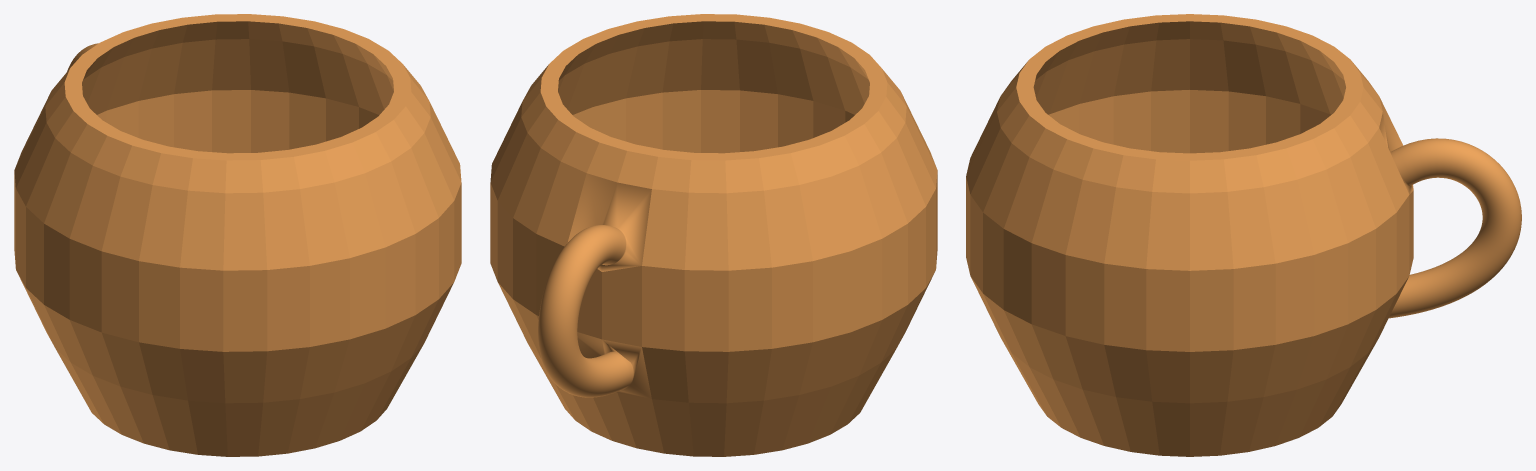
Rendered from cup.glb.
The picture shows the model from 3 angles, left to right: view 1: azimuth 30°, elevation 25°; view 2: azimuth 150°, elevation 25°; view 3: azimuth 270°, elevation 25°; orthographic projection.
Visible parts, largest first — view 1: NurbsPath; view 2: NurbsPath; view 3: NurbsPath.
Boxes of the visible parts, x1,y1,x2,y2 form: NurbsPath: [14, 14, 461, 456]; NurbsPath: [490, 14, 937, 456]; NurbsPath: [966, 14, 1521, 456].
Size of the model in its own units: 2.32 by 1.74 by 2.88.
